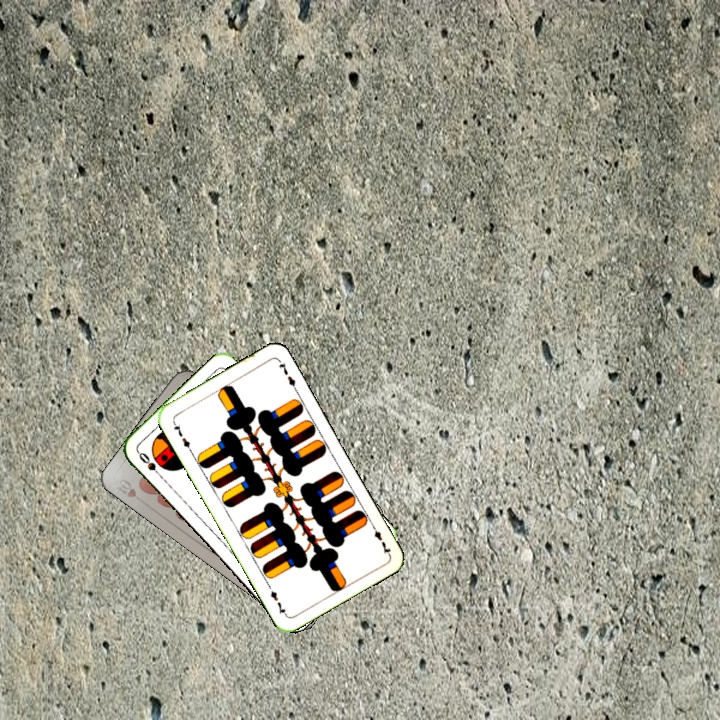E7: (367, 520, 393, 557), (169, 417, 194, 454)
H10: (112, 474, 148, 507)
SO: (134, 448, 165, 481)
